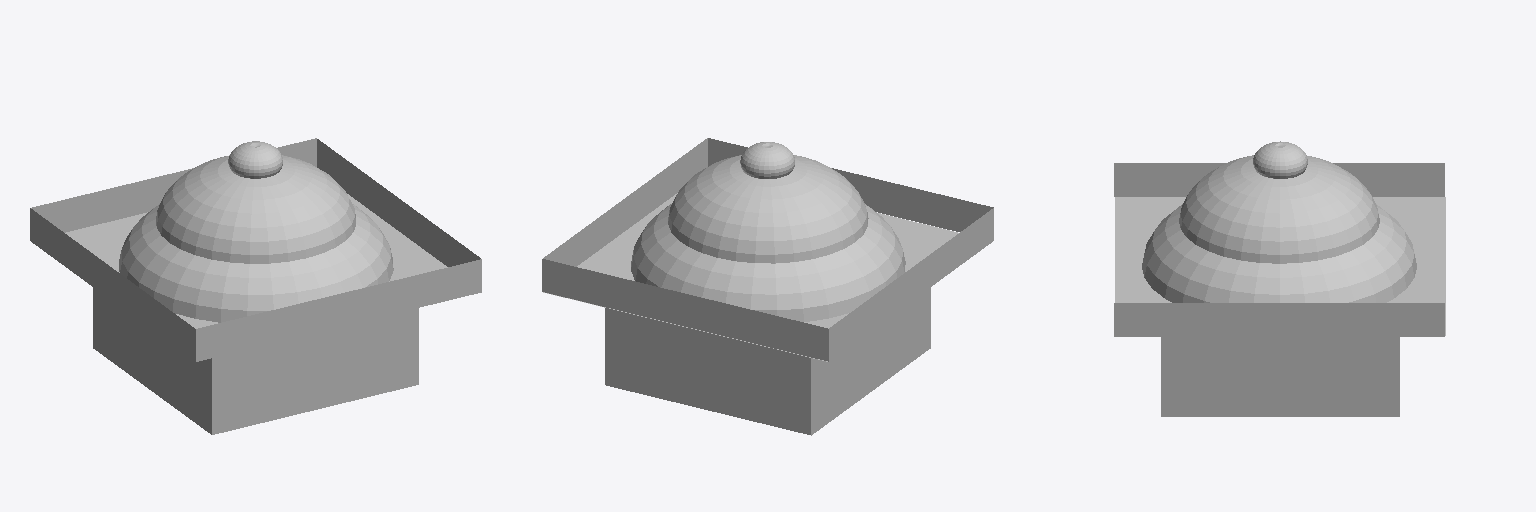
The model's file is kagamimochi.obj.
The picture shows the model from 3 angles: view 1: azimuth 30°, elevation 25°; view 2: azimuth 150°, elevation 25°; view 3: azimuth 270°, elevation 25°; orthographic projection.
Visible parts, largest first — view 1: Cube_Cube.001, kagami2_Sphere.002, kagami1_Sphere, Plane.003_Plane.006, Plane.002_Plane.005, Plane.001_Plane.002, Plane.004_Plane.007, Plane_Plane.001, mikan_Sphere.005; view 2: Cube_Cube.001, kagami2_Sphere.002, kagami1_Sphere, Plane.004_Plane.007, Plane.002_Plane.005, Plane.001_Plane.002, Plane.003_Plane.006, Plane_Plane.001, mikan_Sphere.005; view 3: Cube_Cube.001, kagami2_Sphere.002, kagami1_Sphere, Plane.001_Plane.002, Plane_Plane.001, Plane.002_Plane.005, mikan_Sphere.005.
Part boxes in pixels (x1,y1,x2,y2): Cube_Cube.001: (93,287,418,434); kagami2_Sphere.002: (156,155,355,263); kagami1_Sphere: (119,204,393,322); Plane.003_Plane.006: (196,259,481,361); Plane.002_Plane.005: (30,208,195,361); Plane.001_Plane.002: (317,139,480,266); Plane.004_Plane.007: (31,138,316,232); Plane_Plane.001: (65,194,447,328); mikan_Sphere.005: (228,141,282,178); Cube_Cube.001: (605,287,930,435); kagami2_Sphere.002: (668,155,868,263); kagami1_Sphere: (631,204,905,321); Plane.004_Plane.007: (542,259,828,361); Plane.002_Plane.005: (829,208,993,360); Plane.001_Plane.002: (543,138,707,266); Plane.003_Plane.006: (708,138,993,231); Plane_Plane.001: (543,193,958,361); mikan_Sphere.005: (740,142,794,178); Cube_Cube.001: (1161,337,1399,416); kagami2_Sphere.002: (1179,155,1379,263); kagami1_Sphere: (1142,204,1416,302); Plane.001_Plane.002: (1114,303,1444,336); Plane_Plane.001: (1115,197,1445,335); Plane.002_Plane.005: (1114,163,1444,196); mikan_Sphere.005: (1253,141,1307,178).
Bounding box in the file's own units: 3.6 × 2.66 × 3.61.